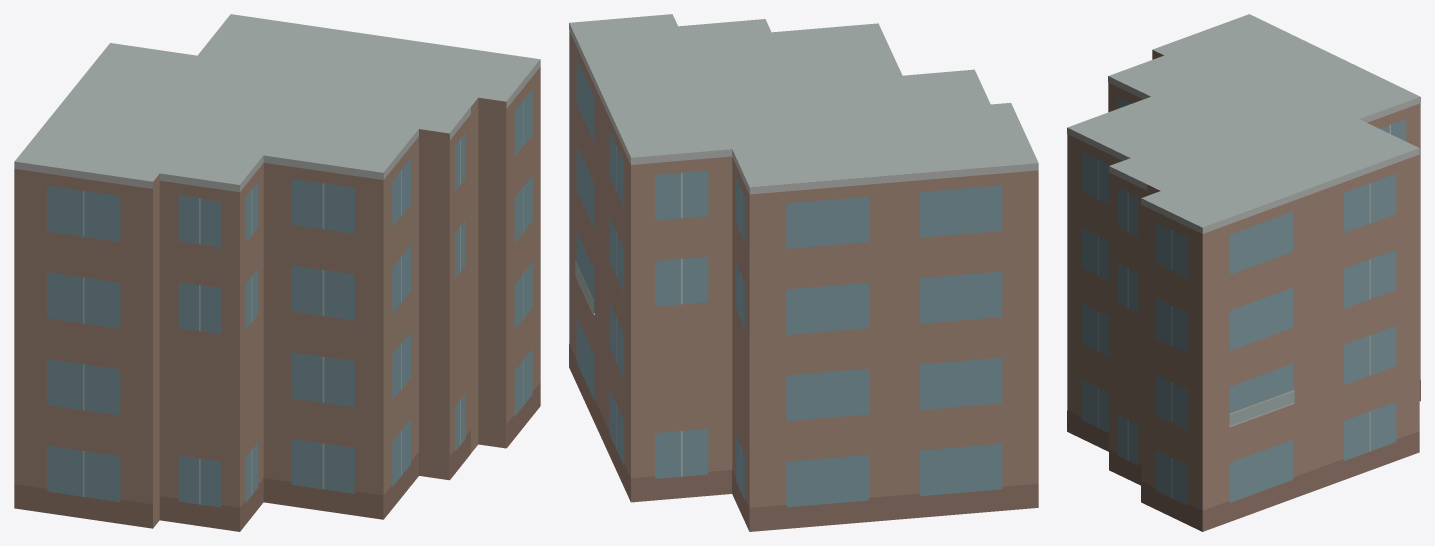
File: survey-upis-32811566.glb
3 renders of one model, left to right at view 1: azimuth 30°, elevation 25°; view 2: azimuth 150°, elevation 25°; view 3: azimuth 270°, elevation 25°, orthographic. The views are drawn at different scales.
Parts seen in each view (by area): view 1: survey-upis-32811566.tmp; view 2: survey-upis-32811566.tmp; view 3: survey-upis-32811566.tmp.
Boxes of the visible parts, left/top/right/bottom form: survey-upis-32811566.tmp: left=14, top=14, right=540, bottom=531; survey-upis-32811566.tmp: left=569, top=14, right=1038, bottom=531; survey-upis-32811566.tmp: left=1067, top=14, right=1420, bottom=531.
Bounding box in the file's own units: 17.64 × 11.7 × 12.33.
